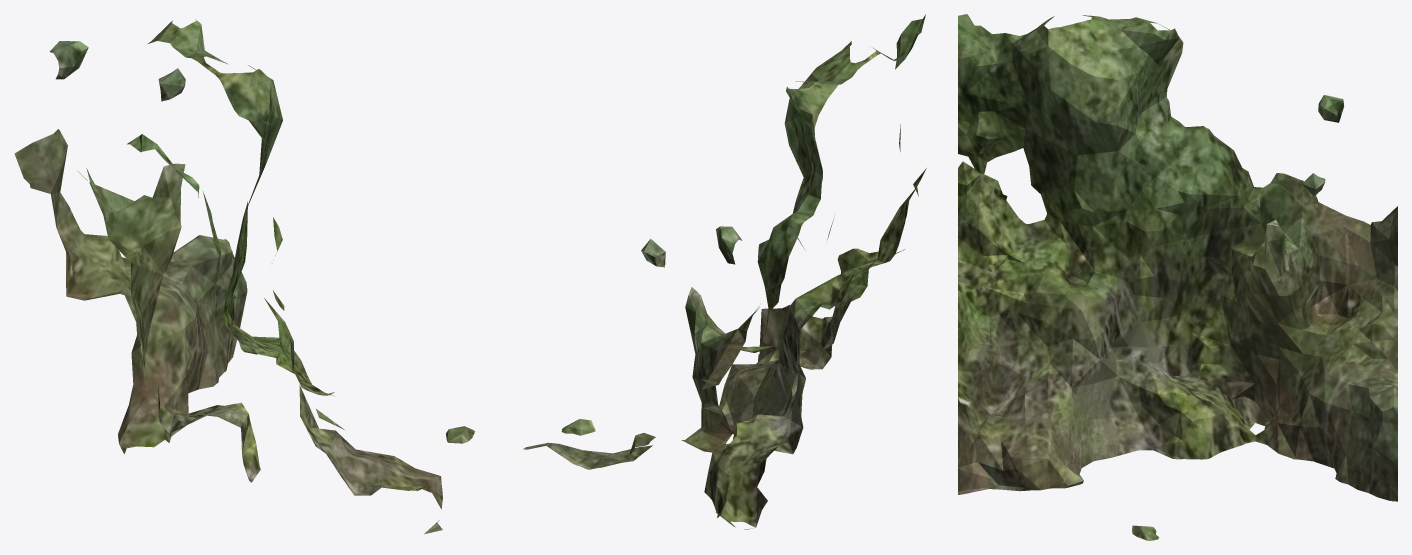
The picture shows the model from 3 angles, left to right: view 1: azimuth 30°, elevation 25°; view 2: azimuth 150°, elevation 25°; view 3: azimuth 270°, elevation 25°; orthographic projection. The views are drawn at different scales.
Size of the model in its own units: 2.04 by 2.95 by 2.95.
Materials: 3 (3 with a texture image).
